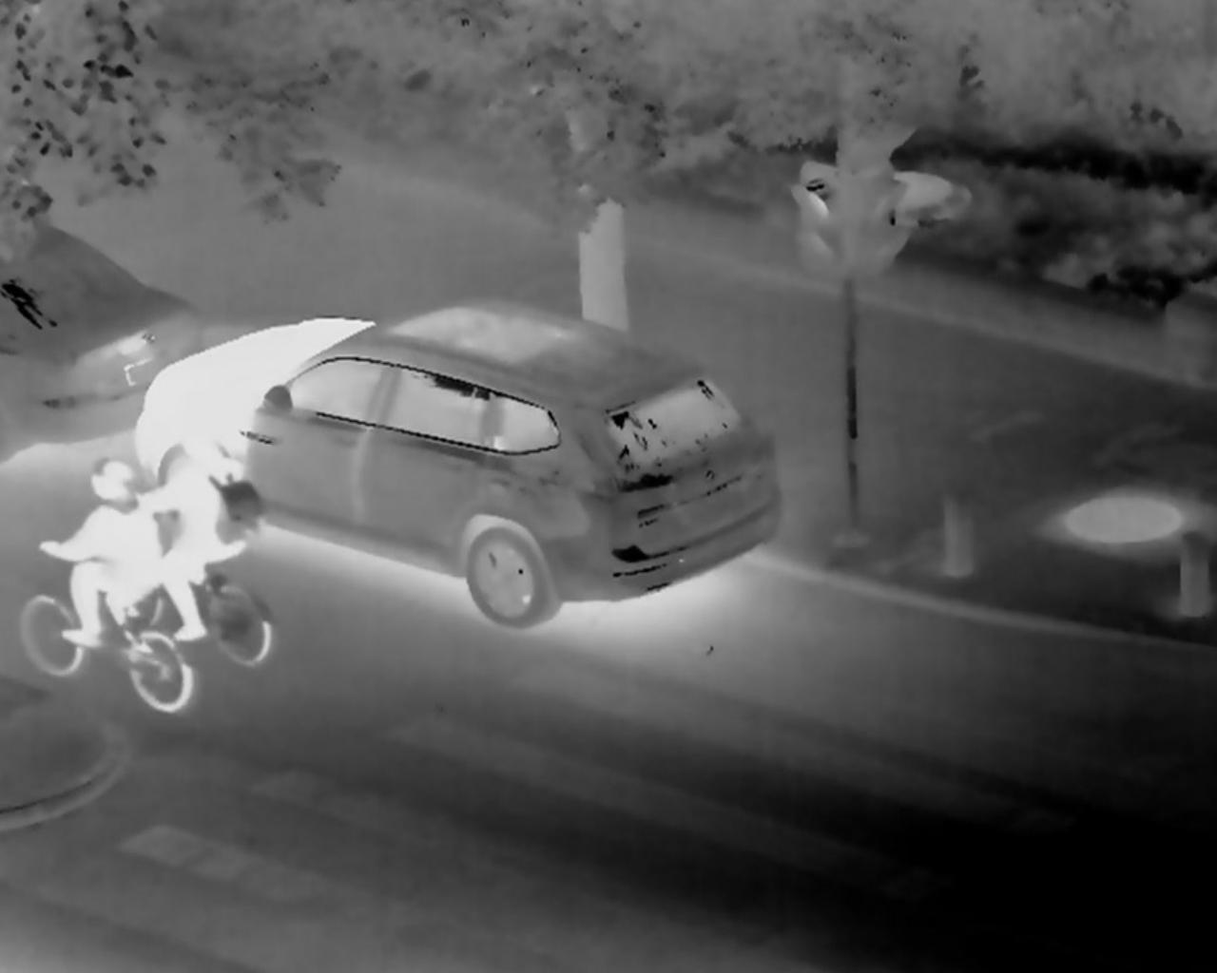person: (127, 417, 266, 649), (38, 459, 164, 652)
